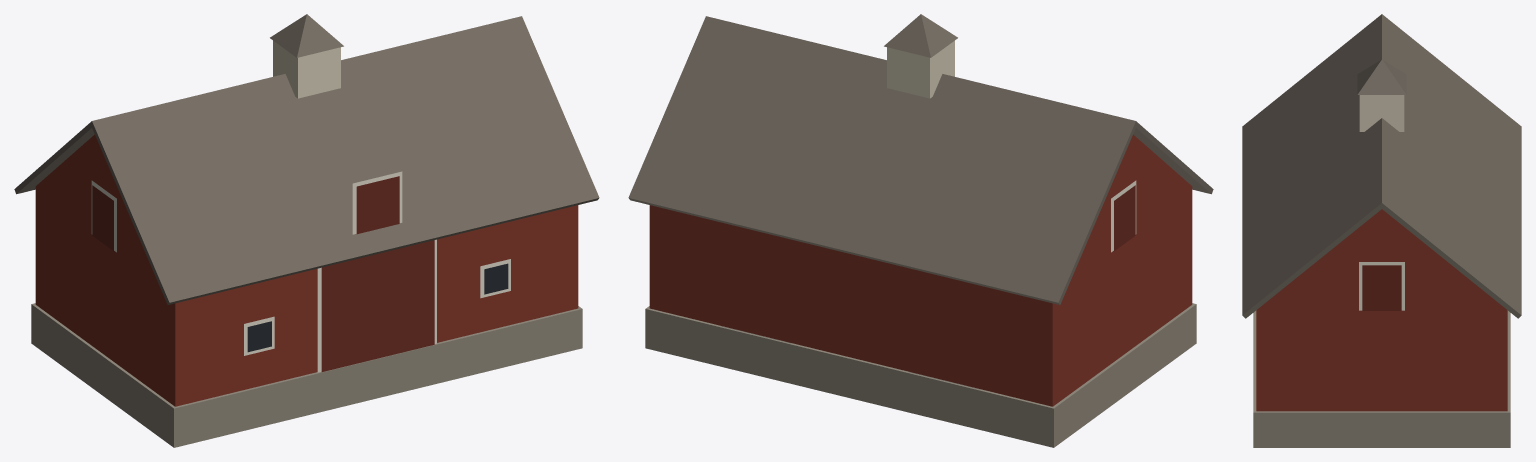
The model's file is barn.glb.
3 views of the same model, side by side, from view 1: azimuth 30°, elevation 25°; view 2: azimuth 150°, elevation 25°; view 3: azimuth 270°, elevation 25° (orthographic). The views are drawn at different scales.
Parts seen in each view (by area): view 1: barn; view 2: barn; view 3: barn.
Part boxes in pixels (bbox=[...]): barn: bbox=[14, 14, 599, 447]; barn: bbox=[628, 14, 1213, 447]; barn: bbox=[1242, 14, 1521, 447].
Bounding box in the file's own units: 16 × 11.8 × 10.
